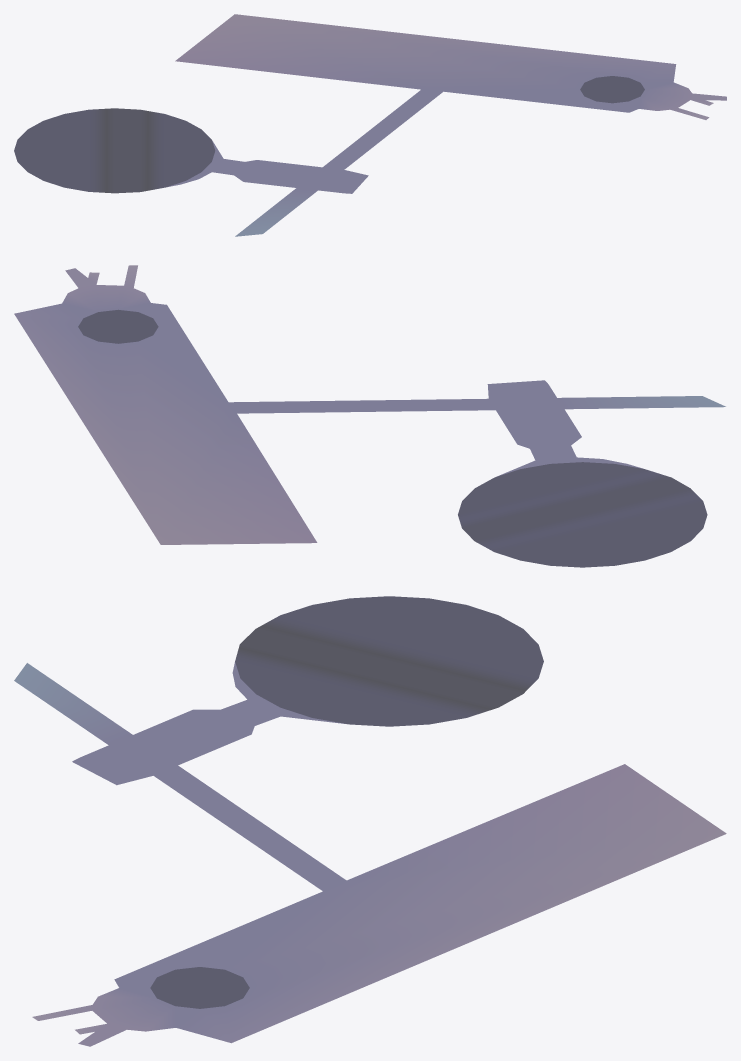
The picture shows the model from 3 angles, top to bottom: view 1: azimuth 30°, elevation 25°; view 2: azimuth 150°, elevation 25°; view 3: azimuth 270°, elevation 25°; orthographic projection. The views are drawn at different scales.
Parts seen in each view (by area): view 1: Joint_0_Object_0; view 2: Joint_0_Object_0; view 3: Joint_0_Object_0.
Boxes of the visible parts, left/top/right/bottom form: Joint_0_Object_0: left=14, top=14, right=726, bottom=236; Joint_0_Object_0: left=14, top=265, right=725, bottom=567; Joint_0_Object_0: left=14, top=596, right=726, bottom=1046.
Bounding box in the file's own units: 1541 × 0 × 1030.
1 material, 1 textured.
